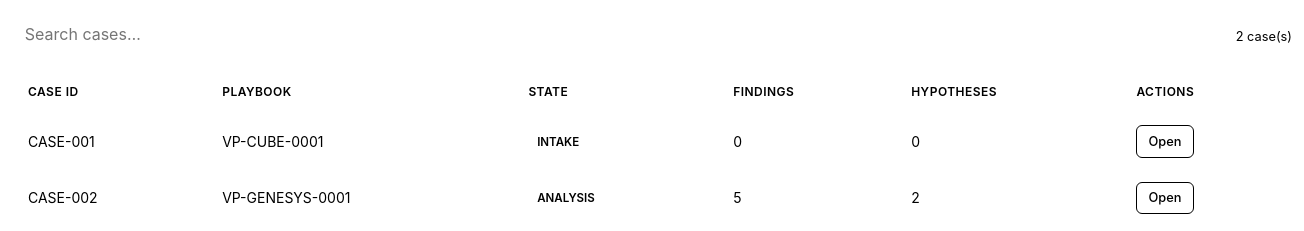
it: CaseGrid › renders cases and filters by search
The width and height of the screenshot is (1304, 231).
Check: the link "CASE-001" is shown, box [28,133,95,150]
Check: the link "CASE-002" is shown, box [28,189,98,206]
Type "GENESYS" into the field labelled "Search cases" at (152, 34), box [12,12,292,55]
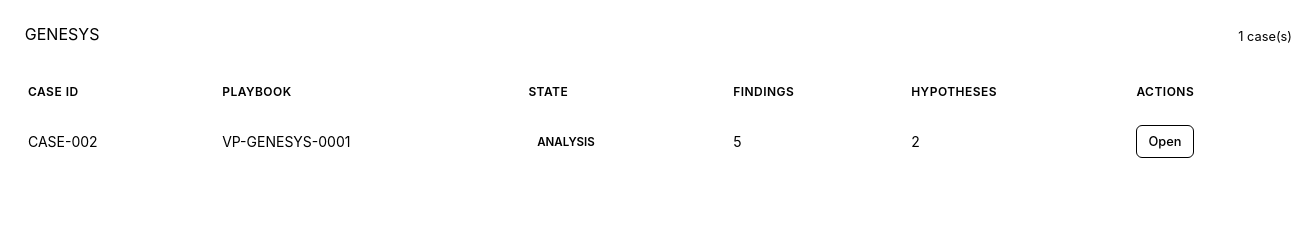
Check: the link "CASE-002" is shown, box [28,133,98,150]
Check: the link "CASE-001" is gone
